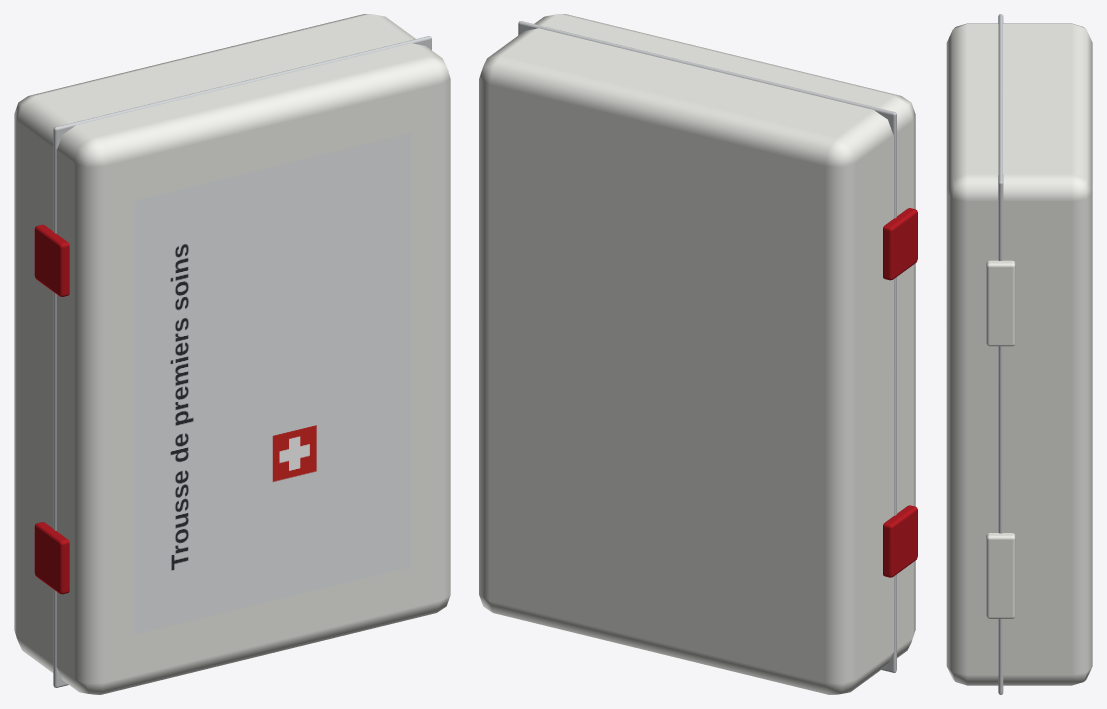
File: SM_Trousse_Premiers_Soins.glb
3 renders of one model, left to right at view 1: azimuth 30°, elevation 25°; view 2: azimuth 150°, elevation 25°; view 3: azimuth 270°, elevation 25°, orthographic. The views are drawn at different scales.
Parts seen in each view (by area): view 1: SM_Trousse_Premiers_Soins; view 2: SM_Trousse_Premiers_Soins; view 3: SM_Trousse_Premiers_Soins.
Part boxes in pixels (bbox=[...]): SM_Trousse_Premiers_Soins: bbox=[14, 14, 450, 694]; SM_Trousse_Premiers_Soins: bbox=[479, 14, 917, 694]; SM_Trousse_Premiers_Soins: bbox=[946, 14, 1092, 694].
Size of the model in its own units: 0.2532 by 0.3449 by 0.0892.
Materials: 4 (1 with a texture image).
